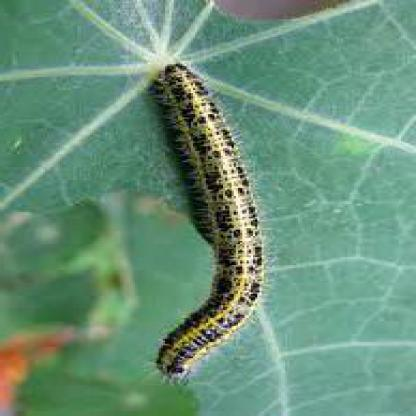pieris: (148, 59, 265, 380)
